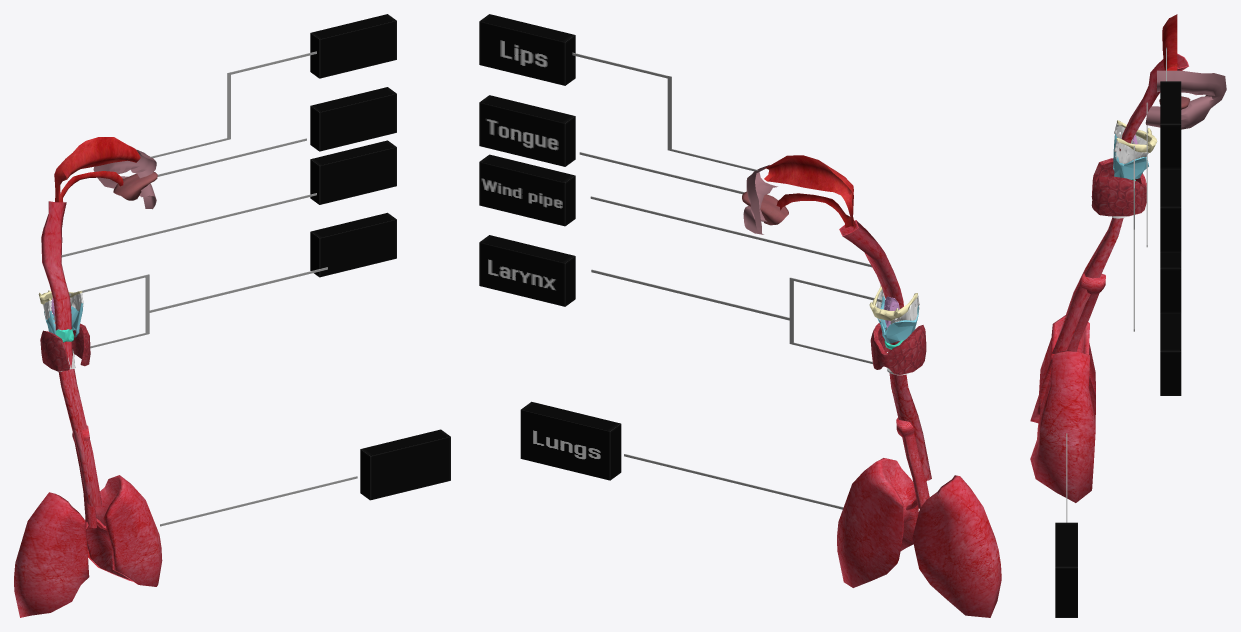
Rendered from parts_explan.fbx.
The picture shows the model from 3 angles, left to right: view 1: azimuth 30°, elevation 25°; view 2: azimuth 150°, elevation 25°; view 3: azimuth 270°, elevation 25°; orthographic projection. The views are drawn at different scales.
Parts seen in each view (by area): view 1: lung:pPlane11, lung:pPlane12, lungs, pipe, tongue1, wind_pipe1, lips2, larynx1, vacal_card, bacal_cavitiy, parts_explan, pCube14 (+4 smaller); view 2: lung:pPlane11, lung:pPlane12, lungs, larynx1, wind_pipe1, tongue1, lips2, vacal_card, pipe, bacal_cavitiy, pCube14, lung:pCylinder1 (+4 smaller); view 3: lung:pPlane12, vacal_card, pipe, parts_explan, lungs, lips2, tongue1, larynx1, wind_pipe1, lung:pPlane11, lung:pCylinder1, bacal_cavitiy (+1 smaller).
Boxes of the visible parts, box(x1,y1,x2,y2) form: lung:pPlane11: box(14, 492, 89, 617); lung:pPlane12: box(85, 475, 162, 586); lungs: box(360, 429, 450, 500); pipe: box(41, 201, 101, 506); tongue1: box(310, 87, 396, 151); wind_pipe1: box(310, 140, 396, 204); lips2: box(310, 14, 396, 78); larynx1: box(310, 212, 396, 277); vacal_card: box(38, 290, 90, 371); bacal_cavitiy: box(54, 137, 140, 202); parts_explan: box(93, 149, 156, 209); pCube14: box(69, 267, 327, 348); lung:pPlane11: box(912, 475, 1001, 617); lung:pPlane12: box(837, 458, 918, 587); lungs: box(520, 401, 621, 480); larynx1: box(479, 235, 575, 306); wind_pipe1: box(479, 154, 575, 226); tongue1: box(479, 95, 575, 166); lips2: box(479, 14, 575, 85); vacal_card: box(869, 285, 926, 375); pipe: box(839, 220, 931, 480); bacal_cavitiy: box(763, 155, 855, 229); pCube14: box(591, 269, 882, 363); lung:pCylinder1: box(896, 417, 929, 508); lung:pPlane12: box(1030, 350, 1095, 502); vacal_card: box(1091, 120, 1157, 218); pipe: box(1052, 53, 1188, 353); parts_explan: box(1145, 70, 1226, 129); lungs: box(1055, 522, 1077, 617); lips2: box(1160, 81, 1181, 169); tongue1: box(1160, 169, 1181, 252); larynx1: box(1160, 313, 1181, 395); wind_pipe1: box(1160, 252, 1181, 313); lung:pPlane11: box(1030, 315, 1095, 423); lung:pCylinder1: box(1067, 273, 1105, 351); bacal_cavitiy: box(1162, 14, 1177, 70).
Size of the model in its own units: 199 by 209 by 69.33.
